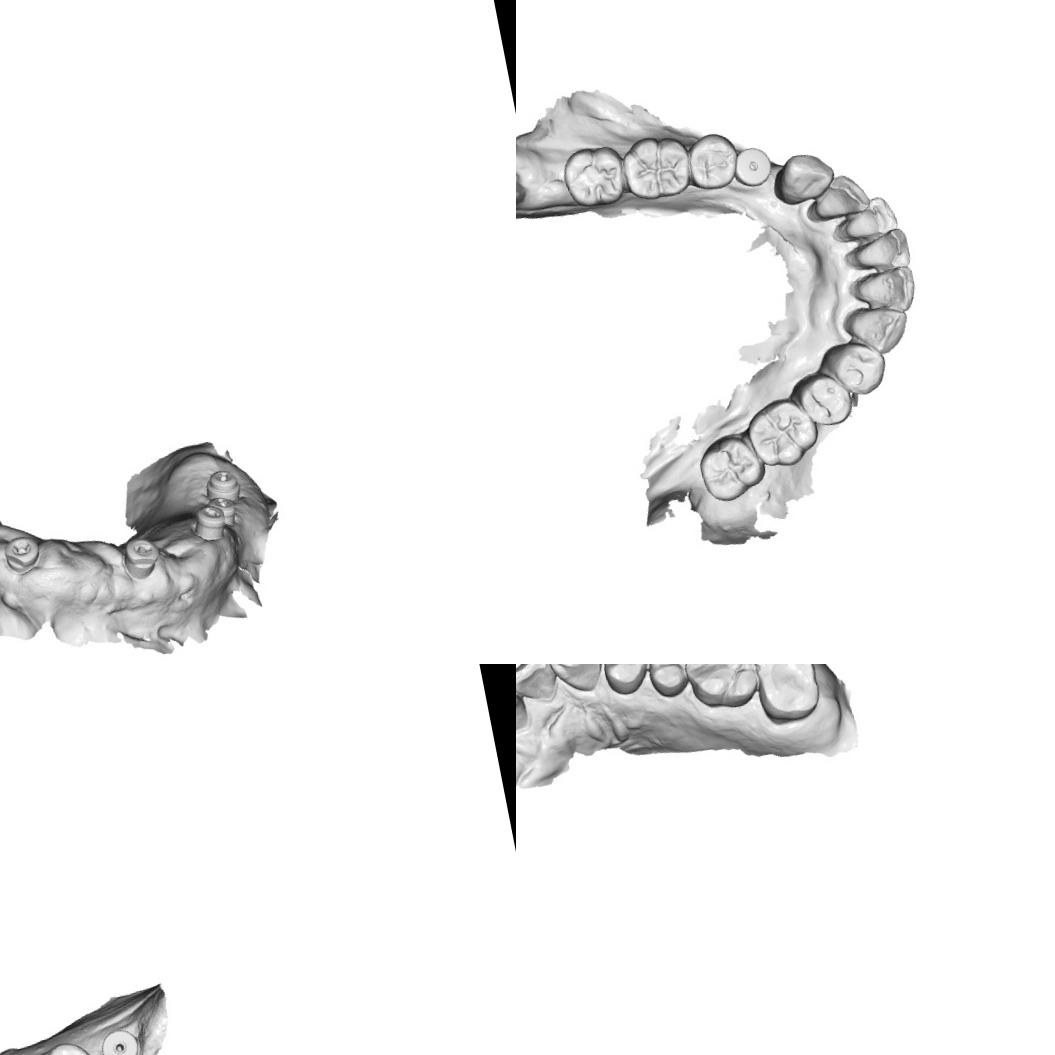canine: (836, 296, 915, 362), (767, 146, 839, 209), (541, 664, 609, 699)
implant: (727, 140, 774, 190), (93, 1022, 146, 1055), (214, 495, 240, 530)
implant_minus: (116, 530, 166, 584), (198, 463, 242, 506), (188, 502, 230, 544)
implant_plus: (0, 530, 46, 576)
incisor: (844, 258, 921, 322), (826, 189, 902, 247), (804, 166, 873, 228), (842, 225, 914, 277), (516, 664, 559, 712), (516, 679, 538, 748)
molar: (736, 392, 827, 476), (615, 124, 694, 205), (691, 428, 768, 508), (556, 136, 632, 213), (747, 664, 825, 729), (675, 664, 765, 718), (17, 1035, 106, 1055)
premolar: (786, 364, 861, 435), (820, 334, 892, 402), (682, 124, 742, 195), (592, 664, 659, 700), (637, 664, 699, 702)
